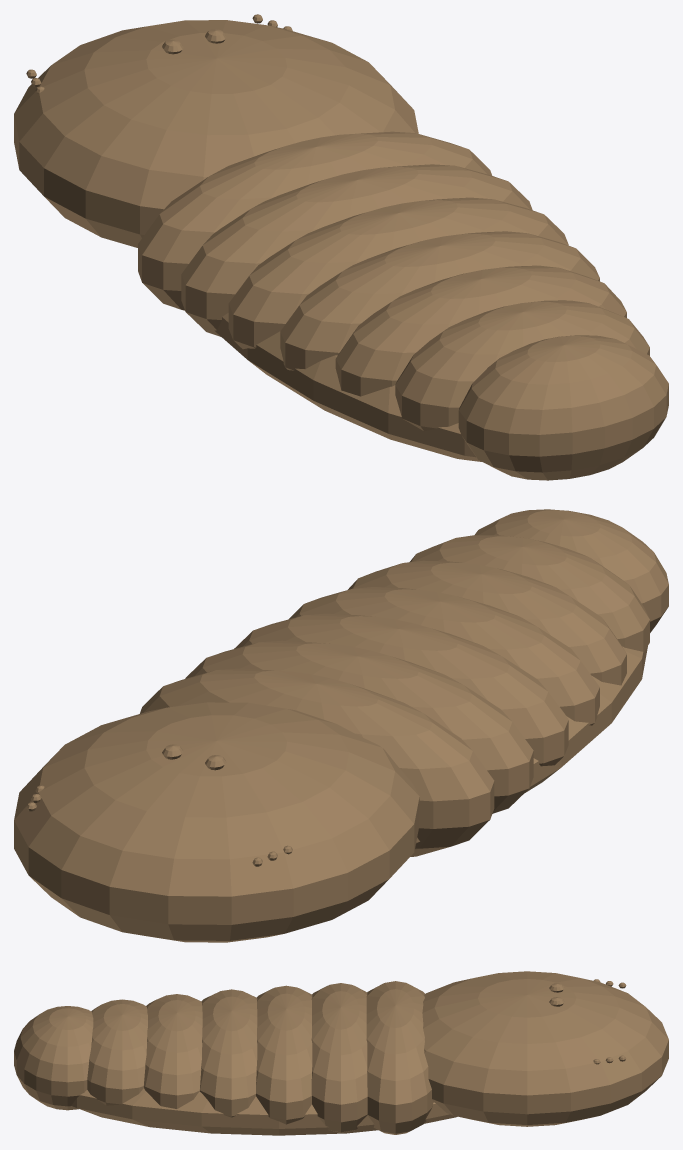
Rendered from scorpion_body_original_01.glb.
The picture shows the model from 3 angles, top to bottom: view 1: azimuth 30°, elevation 25°; view 2: azimuth 150°, elevation 25°; view 3: azimuth 270°, elevation 25°; orthographic projection. The views are drawn at different scales.
Parts seen in each view (by area): view 1: S0_Carapace, S0_Abdomen7, S0_Abdomen1, S0_Abdomen2, S0_Abdomen3, S0_Abdomen4, S0_Abdomen5, S0_Abdomen6, S0_Ventral; view 2: S0_Carapace, S0_Abdomen1, S0_Abdomen2, S0_Abdomen3, S0_Abdomen4, S0_Abdomen5, S0_Abdomen6, S0_Abdomen7, S0_Ventral; view 3: S0_Carapace, S0_Abdomen1, S0_Abdomen2, S0_Abdomen3, S0_Abdomen7, S0_Abdomen4, S0_Ventral, S0_Abdomen5, S0_Abdomen6.
Part boxes in pixels (box(x1,y1,x2,y2)): S0_Carapace: box(14, 20, 418, 247); S0_Abdomen7: box(458, 335, 668, 480); S0_Abdomen1: box(138, 131, 491, 310); S0_Abdomen2: box(181, 164, 532, 336); S0_Abdomen3: box(228, 197, 568, 349); S0_Abdomen4: box(280, 231, 599, 370); S0_Abdomen5: box(335, 265, 626, 396); S0_Abdomen6: box(395, 300, 649, 431); S0_Ventral: box(214, 313, 481, 461); S0_Carapace: box(14, 702, 419, 942); S0_Abdomen1: box(140, 668, 494, 856); S0_Abdomen2: box(185, 640, 533, 813); S0_Abdomen3: box(234, 613, 568, 766); S0_Abdomen4: box(289, 587, 599, 725); S0_Abdomen5: box(348, 560, 626, 685); S0_Abdomen6: box(409, 535, 649, 652); S0_Abdomen7: box(474, 509, 668, 632); S0_Ventral: box(416, 646, 647, 843); S0_Carapace: box(422, 971, 668, 1126); S0_Abdomen1: box(366, 981, 433, 1134); S0_Abdomen2: box(311, 983, 367, 1132); S0_Abdomen3: box(256, 985, 312, 1124); S0_Abdomen7: box(14, 1006, 93, 1110); S0_Abdomen4: box(200, 989, 257, 1117); S0_Ventral: box(71, 1088, 457, 1135); S0_Abdomen5: box(144, 994, 202, 1108); S0_Abdomen6: box(87, 999, 147, 1105).
Bounding box in the file's own units: 0.5357 × 0.266 × 1.32.
